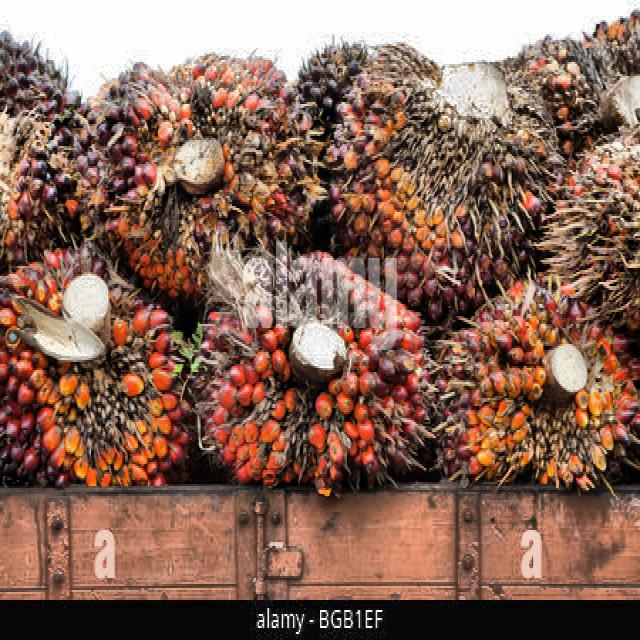FFB: (191, 251, 438, 489), (329, 47, 553, 309), (98, 53, 307, 286), (431, 272, 640, 489), (0, 253, 184, 484), (0, 25, 102, 258), (552, 116, 640, 333)
